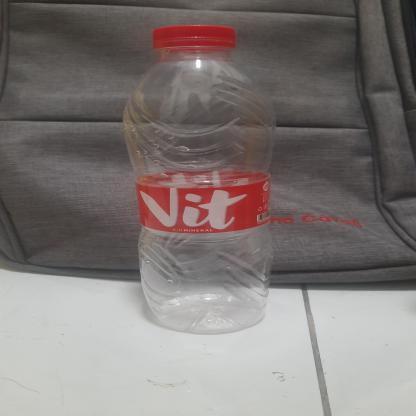bottle: (127, 21, 276, 331)
